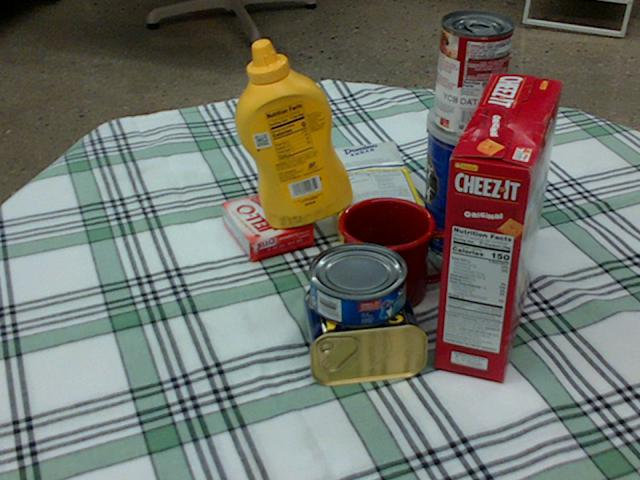cracker_box: (434, 74, 562, 381)
gelatin_box: (222, 190, 314, 263)
master_chef_can: (420, 96, 531, 262)
mug: (338, 198, 460, 314)
mustard_bottle: (234, 40, 351, 227)
potted_meat_can: (307, 271, 431, 383)
sugar_box: (317, 139, 427, 258)
tomato_soup_can: (433, 11, 512, 137)
tuna_fish_can: (308, 243, 407, 327)
